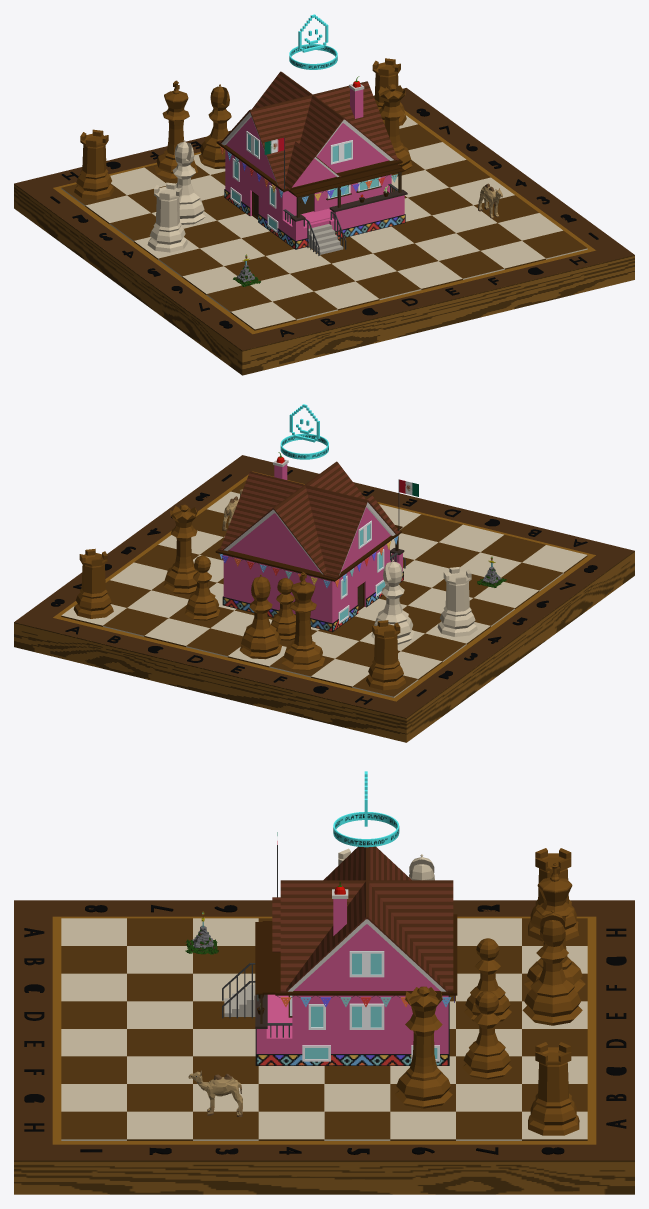
The picture shows the model from 3 angles, top to bottom: view 1: azimuth 30°, elevation 25°; view 2: azimuth 150°, elevation 25°; view 3: azimuth 270°, elevation 25°; orthographic projection. The views are drawn at different scales.
Visible parts, largest first — view 1: Cube.002, Cube.1005, TYPE_PREMIUM, ANIMAL_CAMELLO; view 2: Cube.002, Cube.1005, TYPE_PREMIUM; view 3: Cube.002, Cube.1005, TYPE_PREMIUM, ANIMAL_CAMELLO, OBJRANDOM_SWORD_IN_THE_STONE.
Boxes of the visible parts, x1,y1,x2,y2 form: Cube.002: (14,58,634,375); Cube.1005: (216,71,407,255); TYPE_PREMIUM: (289,14,337,69); ANIMAL_CAMELLO: (478,183,502,218); Cube.002: (14,455,634,742); Cube.1005: (215,452,418,632); TYPE_PREMIUM: (280,404,328,459); Cube.002: (14,848,634,1194); Cube.1005: (222,832,457,1065); TYPE_PREMIUM: (333,771,399,847); ANIMAL_CAMELLO: (188,1070,242,1116); OBJRANDOM_SWORD_IN_THE_STONE: (185,911,218,954).
Bounding box in the file's own units: 3981 × 2177 × 4012.
Materials: 69 (5 with a texture image).
